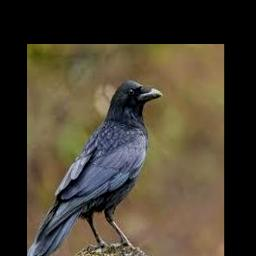Crow: (27, 79, 163, 256)
